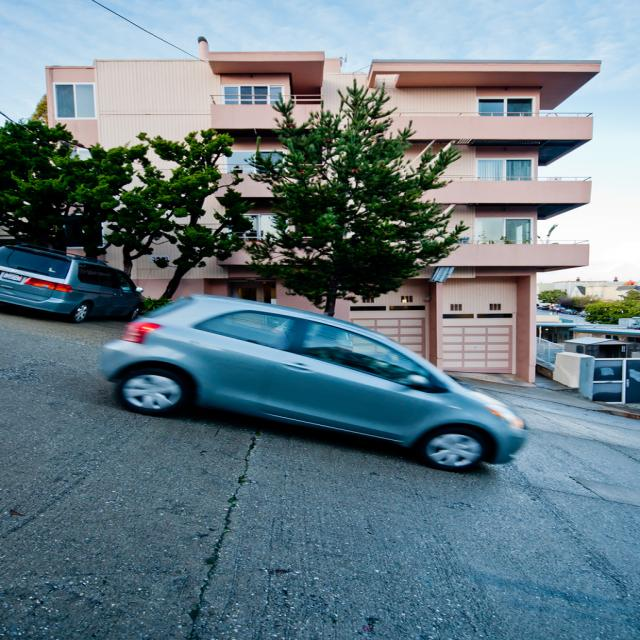car: (97, 294, 529, 470)
